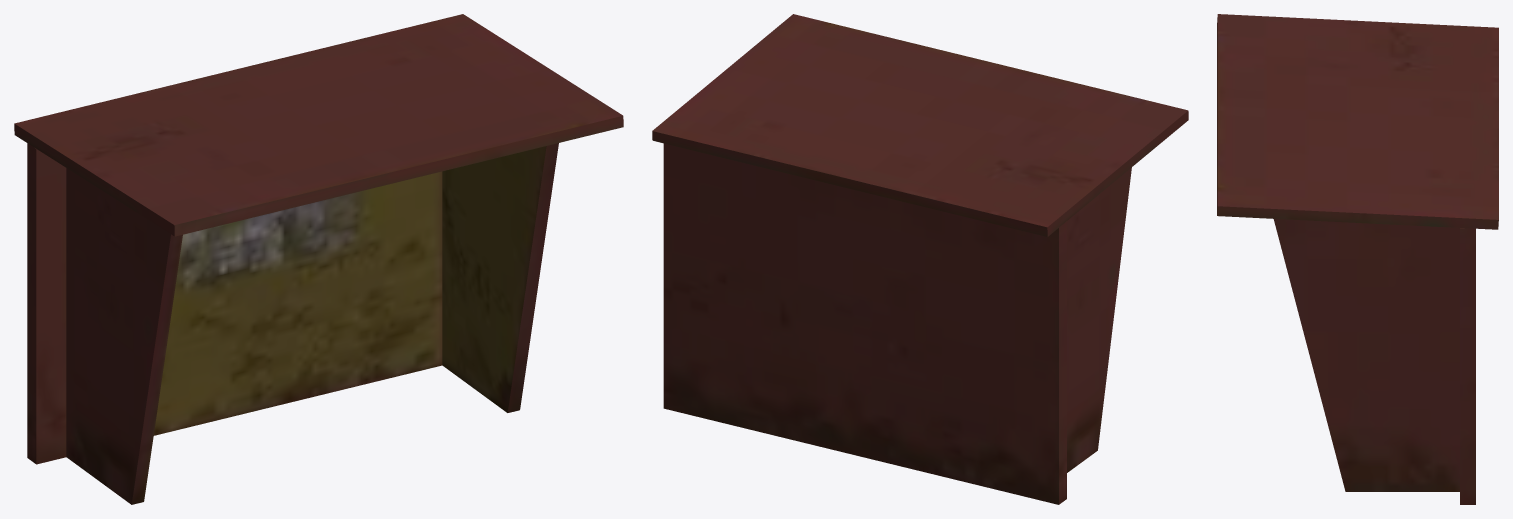
File: shelter_247.glb
3 views of the same model, side by side, from view 1: azimuth 30°, elevation 25°; view 2: azimuth 150°, elevation 25°; view 3: azimuth 270°, elevation 25° (orthographic). The views are drawn at different scales.
Visible parts, largest first — view 1: shelter_247; view 2: shelter_247; view 3: shelter_247.
Boxes of the visible parts, x1,y1,x2,y2 form: shelter_247: [14, 14, 623, 504]; shelter_247: [652, 14, 1188, 504]; shelter_247: [1217, 14, 1498, 504].
Bounding box in the file's own units: 3.59 × 2.6 × 2.22.
1 material, 1 textured.
